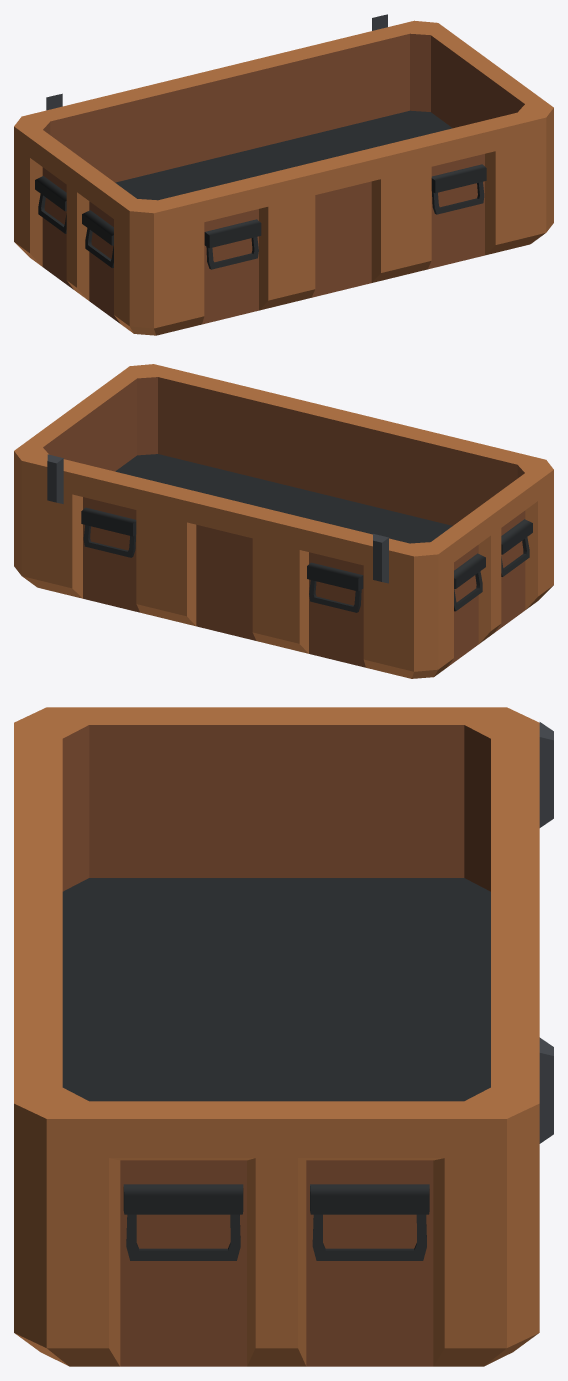
The model's file is SM_Prop_Crate_Plastic_01.glb.
3 views of the same model, one above another, from view 1: azimuth 30°, elevation 25°; view 2: azimuth 150°, elevation 25°; view 3: azimuth 270°, elevation 25° (orthographic). The views are drawn at different scales.
Visible parts, largest first — view 1: SM_Prop_Crate_Plastic_01; view 2: SM_Prop_Crate_Plastic_01; view 3: SM_Prop_Crate_Plastic_01.
Part boxes in pixels (x1,y1,x2,y2): SM_Prop_Crate_Plastic_01: [14, 14, 553, 335]; SM_Prop_Crate_Plastic_01: [14, 364, 553, 678]; SM_Prop_Crate_Plastic_01: [14, 707, 553, 1366].
Bounding box in the file's own units: 1.44 × 0.4615 × 0.798.
Materials: 1 (1 with a texture image).
